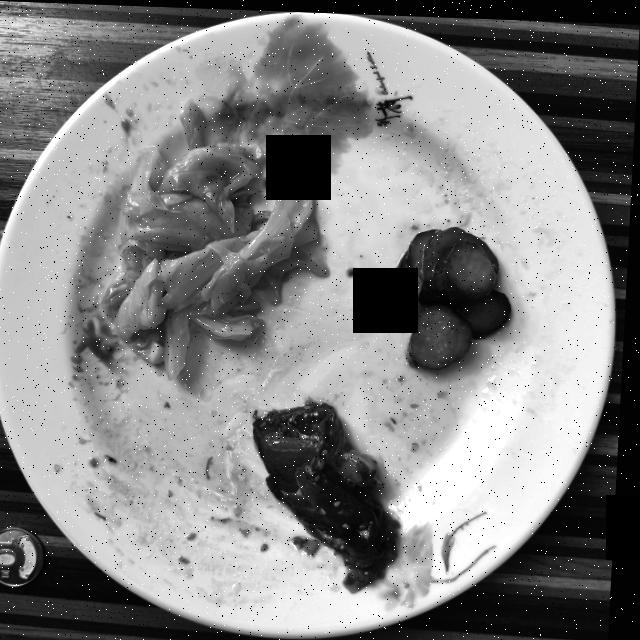Kabayaki sea bream fillet: (258, 399, 402, 588)
cabbage: (105, 97, 330, 378)
coin: (0, 526, 50, 586)
cucumber: (398, 222, 514, 365)
